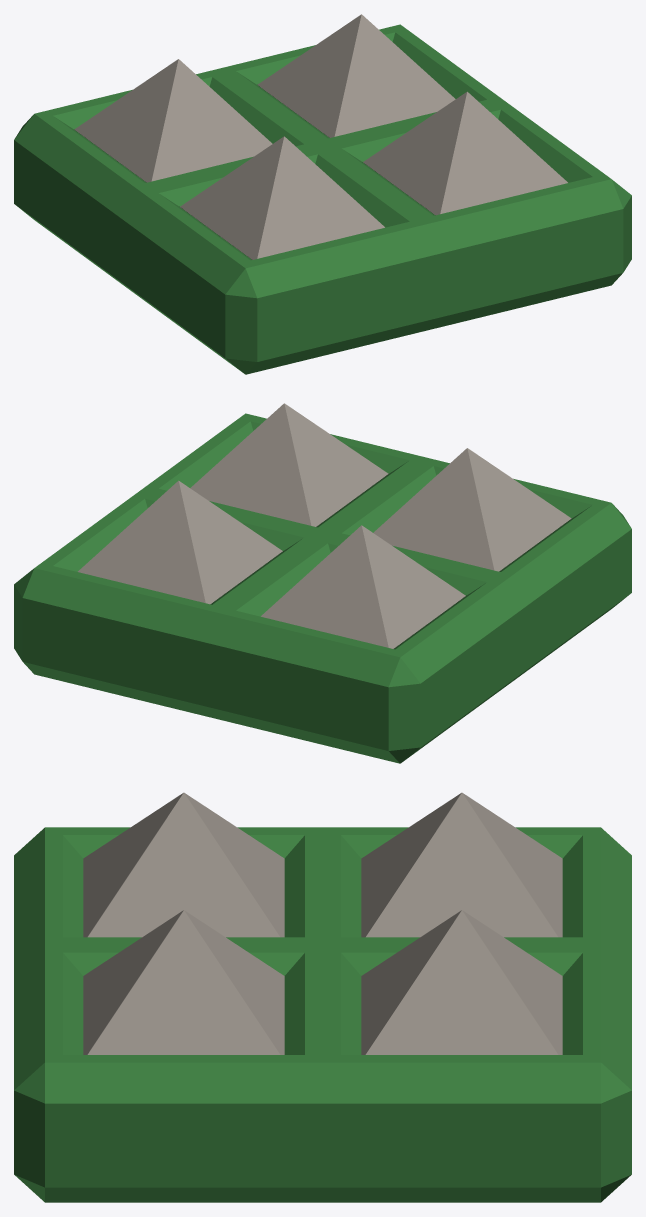
File: m_dec_dung_trapSpikes_enabled.fbx
3 views of the same model, one above another, from view 1: azimuth 30°, elevation 25°; view 2: azimuth 150°, elevation 25°; view 3: azimuth 270°, elevation 25° (orthographic). The views are drawn at different scales.
Parts seen in each view (by area): view 1: m_dec_dung_trapSpikes_enabled; view 2: m_dec_dung_trapSpikes_enabled; view 3: m_dec_dung_trapSpikes_enabled.
Part boxes in pixels (x1,y1,x2,y2): m_dec_dung_trapSpikes_enabled: [14, 14, 631, 374]; m_dec_dung_trapSpikes_enabled: [14, 403, 631, 763]; m_dec_dung_trapSpikes_enabled: [14, 792, 631, 1202].
Bounding box in the file's own units: 2 × 0.8348 × 2.
